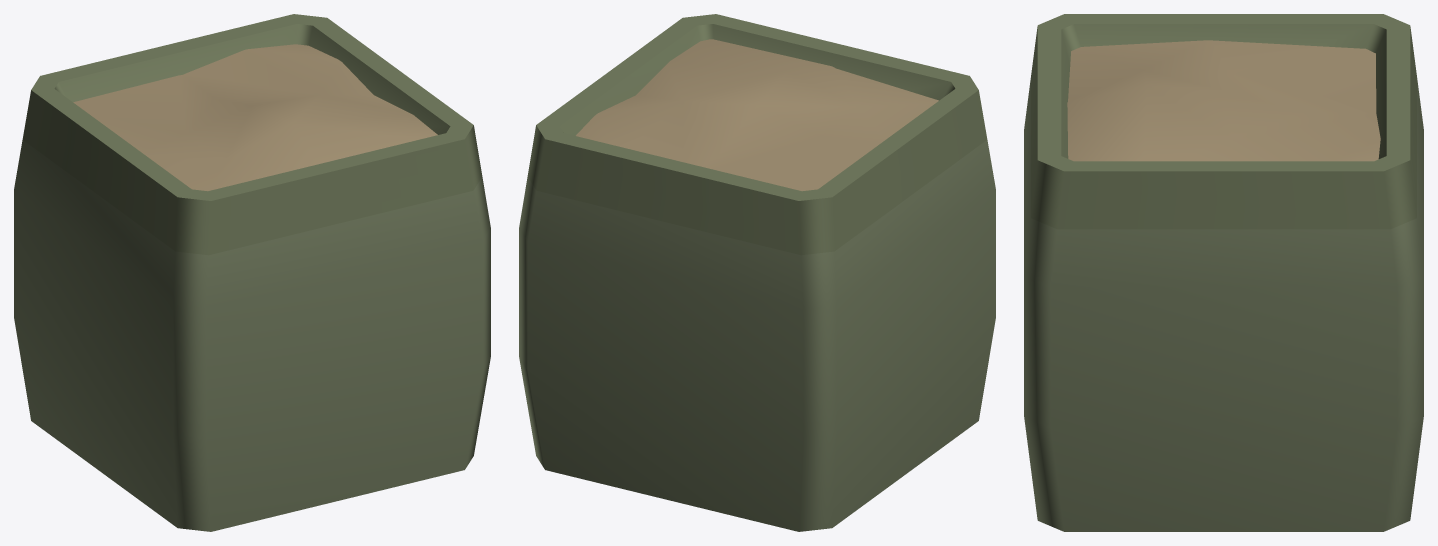
The model's file is ds_hesco.glb.
The picture shows the model from 3 angles, left to right: view 1: azimuth 30°, elevation 25°; view 2: azimuth 150°, elevation 25°; view 3: azimuth 270°, elevation 25°; orthographic projection. The views are drawn at different scales.
Visible parts, largest first — view 1: ds_hesco; view 2: ds_hesco; view 3: ds_hesco.
Boxes of the visible parts, bbox=[...] form: ds_hesco: bbox=[14, 14, 490, 531]; ds_hesco: bbox=[519, 14, 995, 531]; ds_hesco: bbox=[1024, 14, 1423, 531].
Size of the model in its own units: 1.29 by 1.32 by 1.29.
